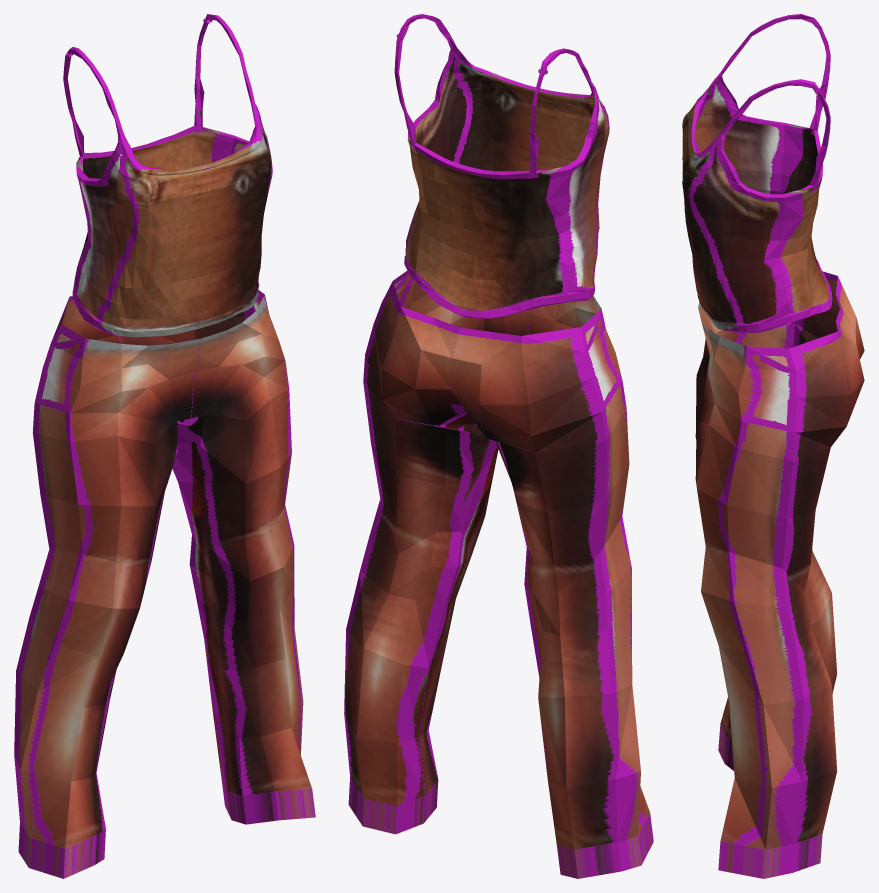
3 renders of one model, left to right at view 1: azimuth 30°, elevation 25°; view 2: azimuth 150°, elevation 25°; view 3: azimuth 270°, elevation 25°, orthographic. The views are drawn at different scales.
Bounding box in the file's own units: 0.2904 × 0.7809 × 0.1667.
1 material, 1 textured.
